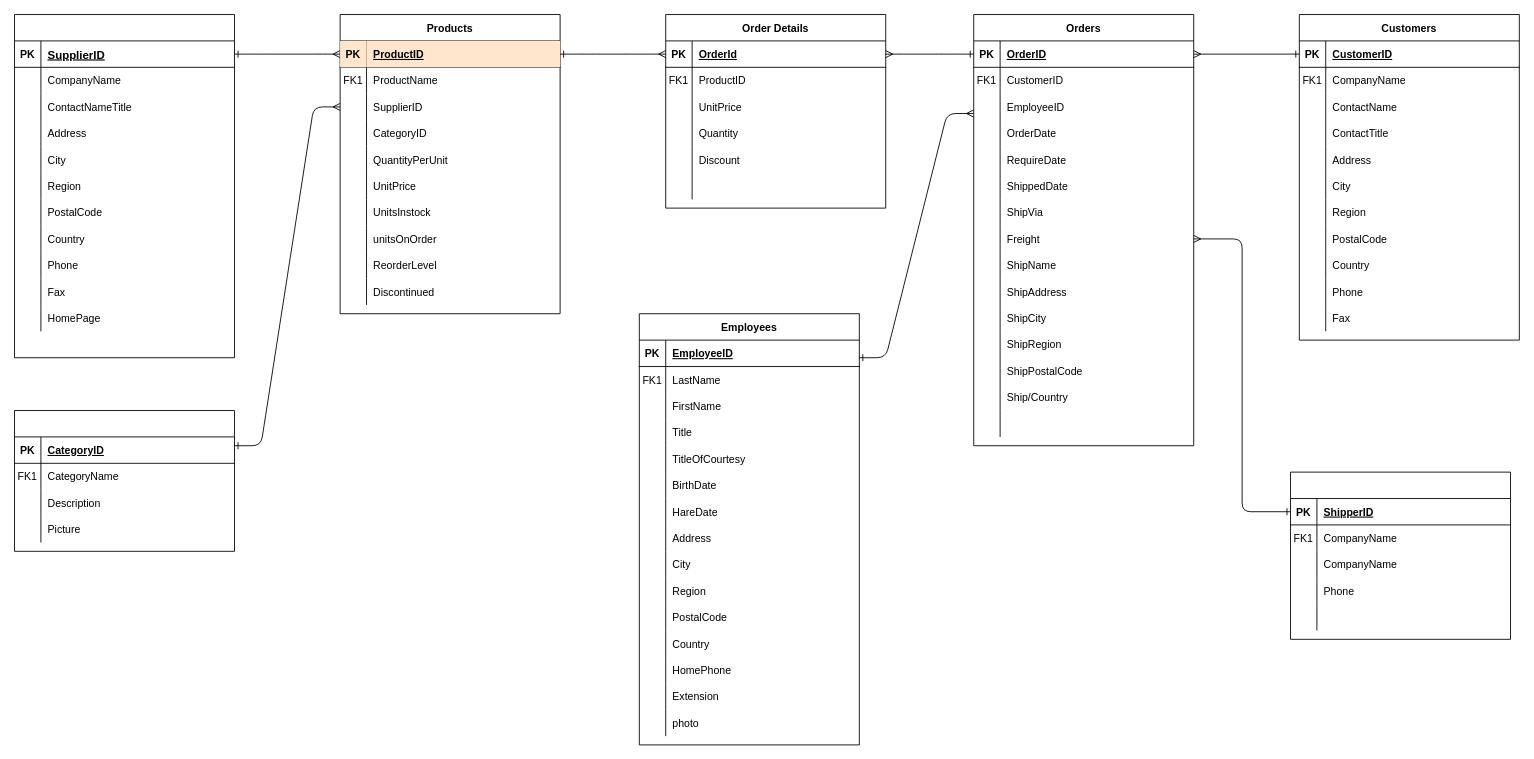
Some shapes in this 1534 by 759 pixel diagram are drawn without their labels. Each missing label, with the box of its shape:
Categories: (14, 410, 235, 551)
Shippers: (1290, 471, 1511, 639)
Suppliers: (14, 14, 235, 358)
